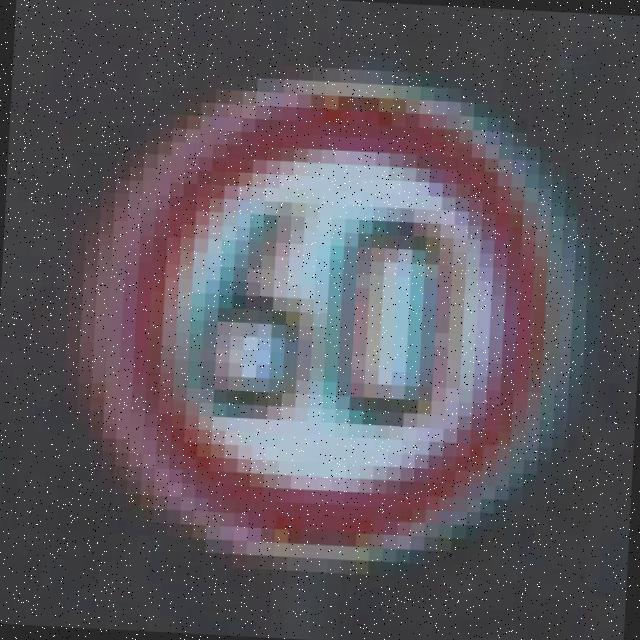Ograniczenie predkosci do 60: (32, 21, 629, 612)
